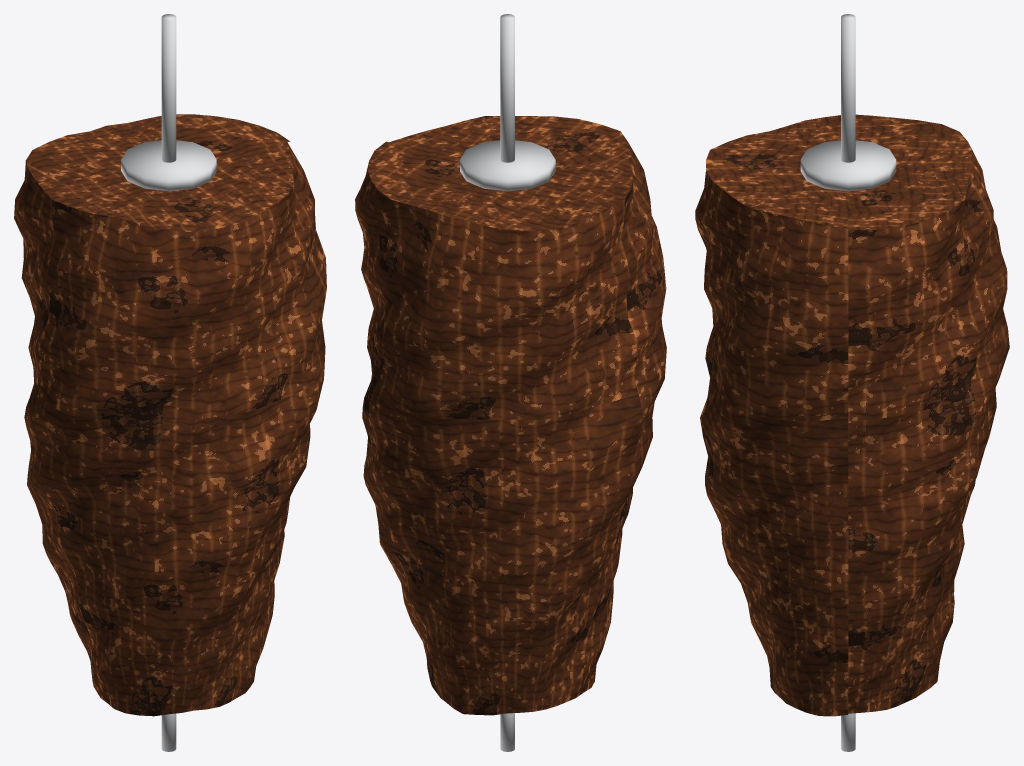
File: kebab_mieso.glb
3 renders of one model, left to right at view 1: azimuth 30°, elevation 25°; view 2: azimuth 150°, elevation 25°; view 3: azimuth 270°, elevation 25°, orthographic.
Parts seen in each view (by area): view 1: mieso, pret; view 2: mieso, pret; view 3: mieso, pret.
Boxes of the visible parts, x1,y1,x2,y2 form: mieso: [14, 114, 326, 716]; pret: [121, 14, 216, 751]; mieso: [355, 116, 666, 715]; pret: [460, 14, 555, 751]; mieso: [695, 114, 1009, 716]; pret: [800, 14, 896, 751].
Bounding box in the file's own units: 0.2965 × 0.76 × 0.296.
2 materials, 1 textured.
